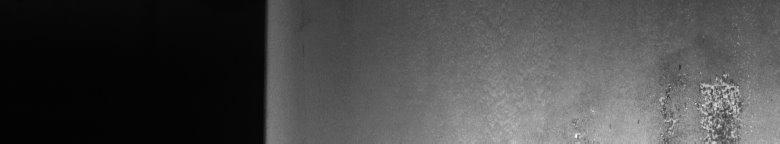hc: (650, 29, 751, 136)
